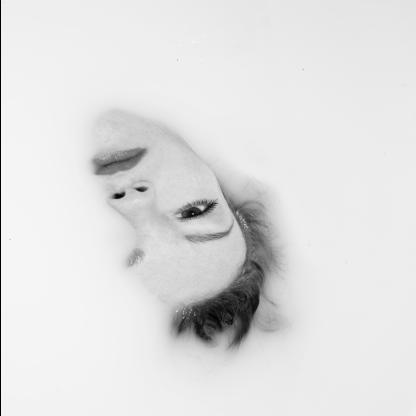Eye: (176, 200, 219, 222)
Mouth: (86, 144, 148, 180)
Nose: (109, 182, 163, 245)
